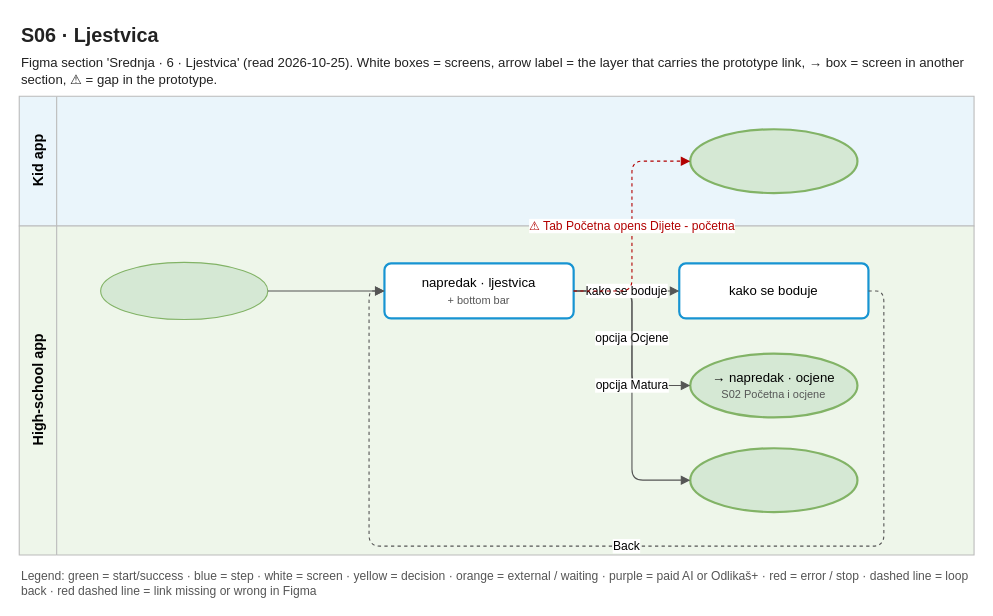
Image size: 993x616. Some labels were removed from this diagram. Each missing label, with the centre of its shape:
from S02, S04, S05: (184,290)
→ napredak · matura S04 Matura: (773,480)
→ početna D02 Početna i navigacija: (773,161)
